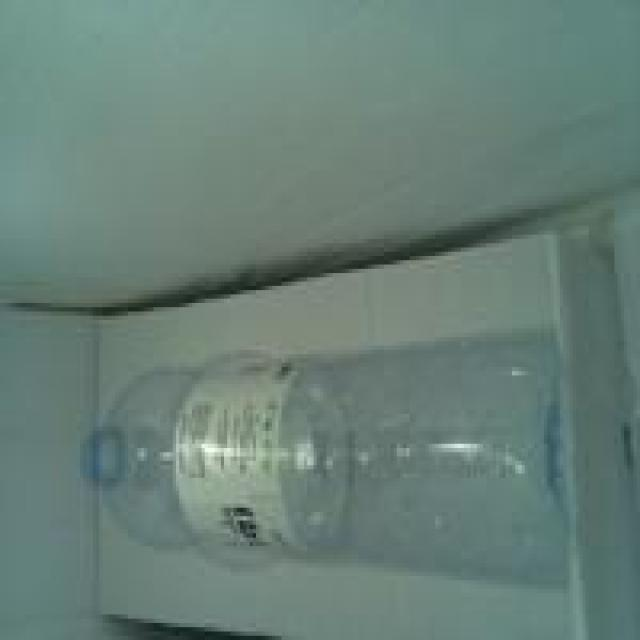Pet_Bottle: (76, 349, 566, 602)
